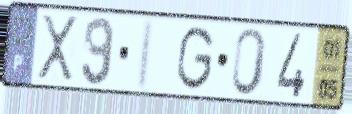0: (231, 26, 269, 98)
4: (275, 32, 307, 100)
9: (81, 14, 117, 89)
G: (174, 24, 217, 94)
I: (133, 16, 157, 93)
X: (36, 12, 80, 83)
